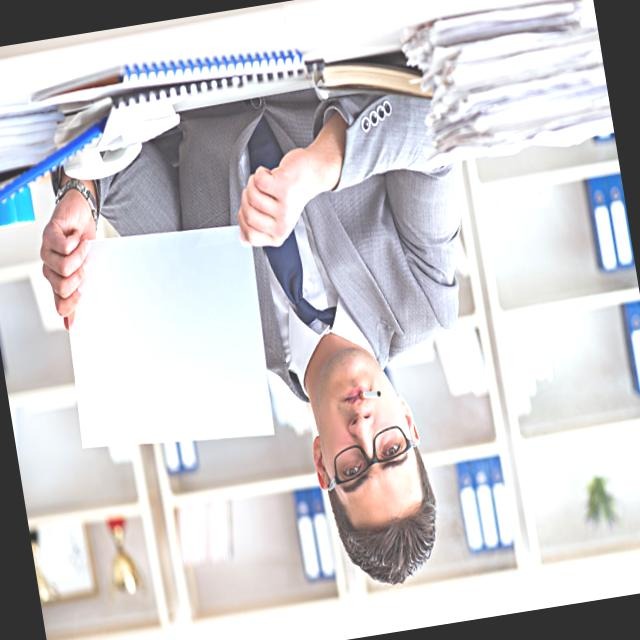smoke: (358, 386, 384, 404)
